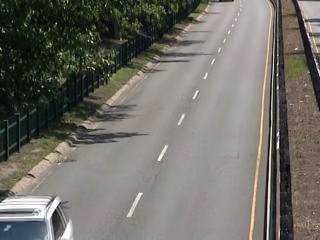car: (1, 187, 83, 240)
